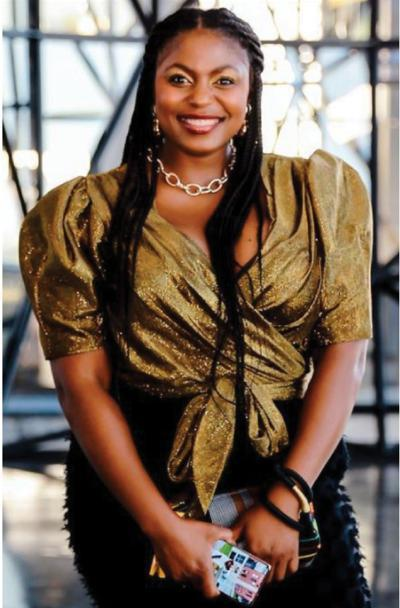Sober: (157, 39, 252, 150)
